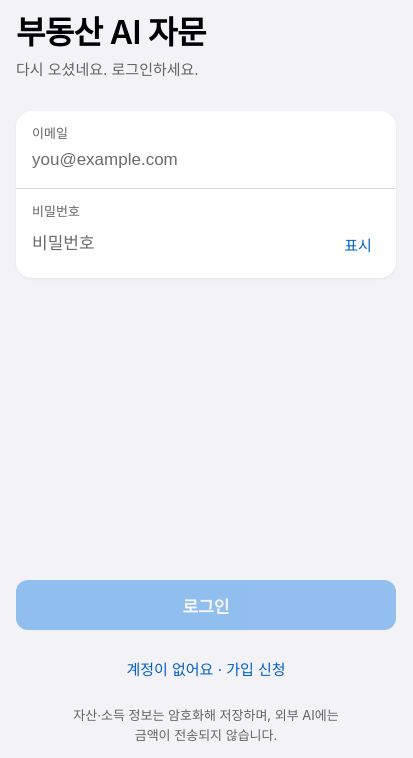
로그인 › 403 PENDING_APPROVAL 은 오류가 아니라 승인 대기 안내로 보인다
Type "me@example.com" into the field labelled "이메일" at (206, 160), box [32,144,380,176]
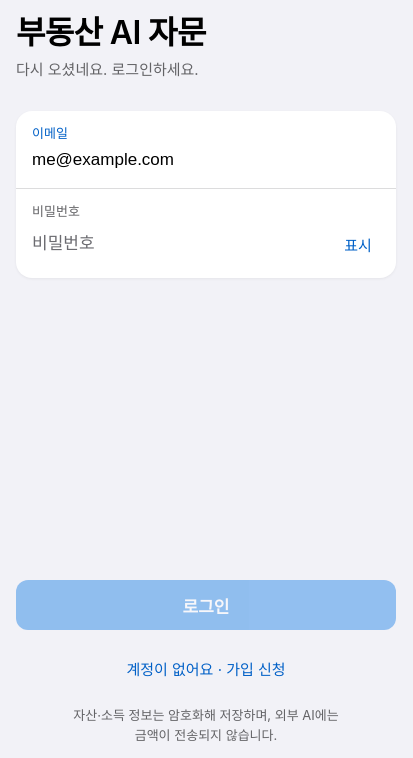
Type "password12345" into the password field labelled "비밀번호" at (180, 244), box [32,228,328,260]
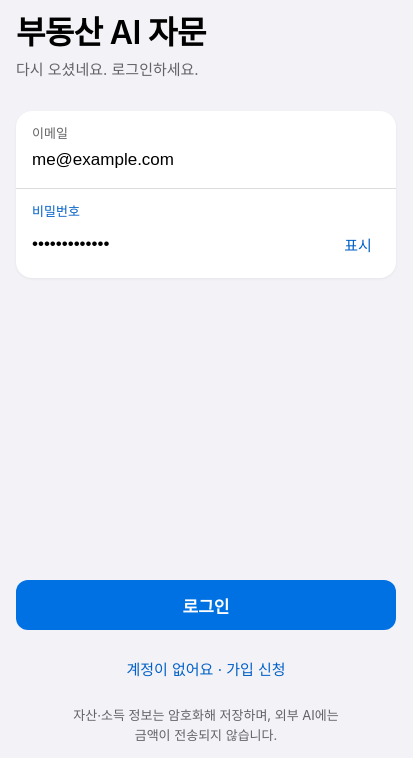
Click the button "로그인" at (206, 605), box [16,580,396,630]
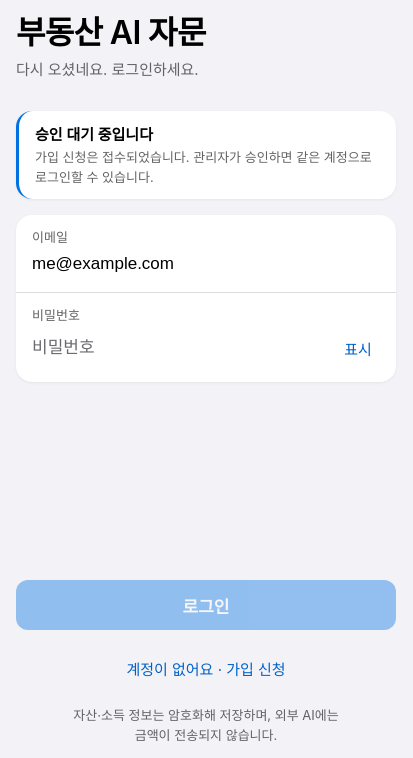
Now the message shows "승인 대기 중입니다", box [35,125,153,144]
Now the message shows "관리자가 승인하면", box [35,149,372,185]
